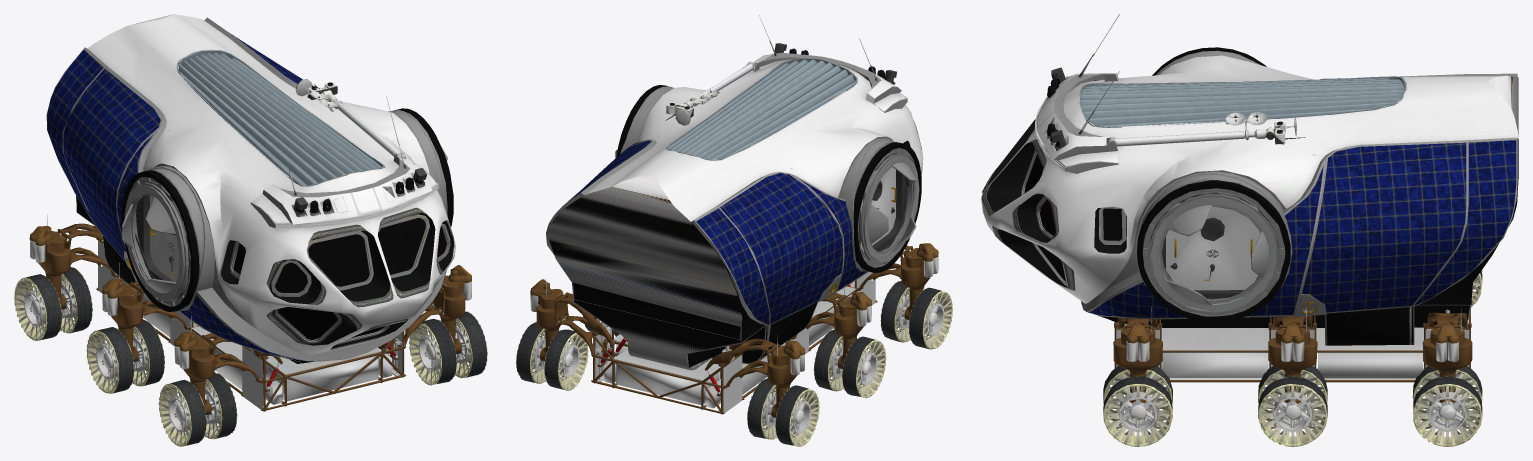
The model's file is rover-sev.glb.
3 renders of one model, left to right at view 1: azimuth 30°, elevation 25°; view 2: azimuth 150°, elevation 25°; view 3: azimuth 270°, elevation 25°, orthographic. The views are drawn at different scales.
Parts seen in each view (by area): view 1: MMSEV; view 2: MMSEV; view 3: MMSEV.
Boxes of the visible parts, left/top/right/bottom form: MMSEV: left=14, top=14, right=487, bottom=446; MMSEV: left=516, top=15, right=952, bottom=446; MMSEV: left=981, top=14, right=1518, bottom=446.
Size of the model in its own units: 4.04 by 3.97 by 5.91.
1 material, 1 textured.
